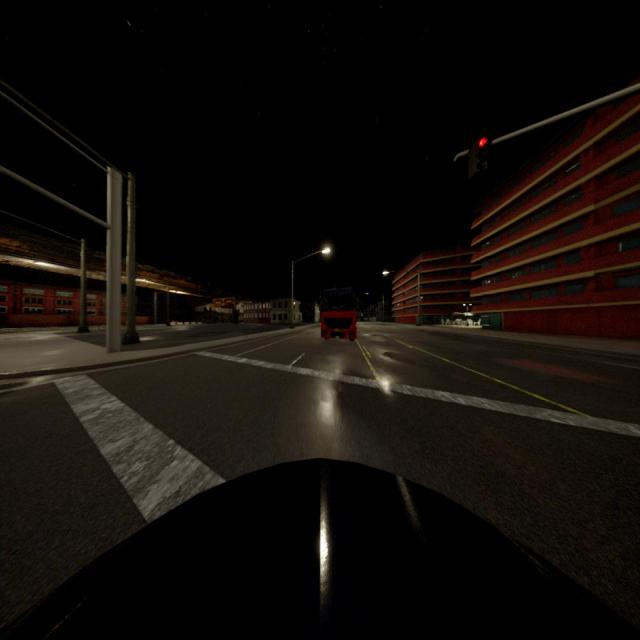Vehicle: (0, 462, 640, 638), (321, 288, 356, 340)
traffic_light: (472, 137, 488, 176)
